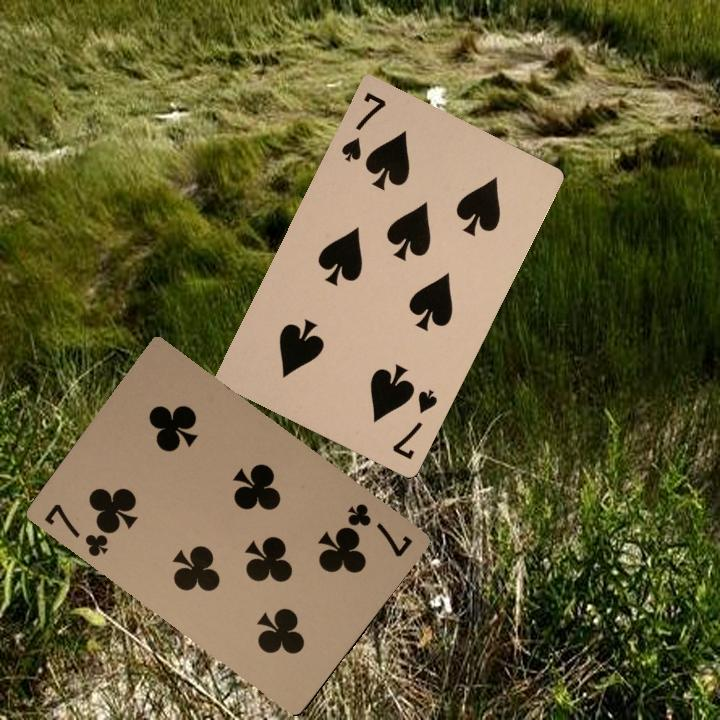7c: (40, 499, 116, 560), (343, 499, 416, 560)
7s: (388, 385, 440, 462), (337, 88, 389, 165)
